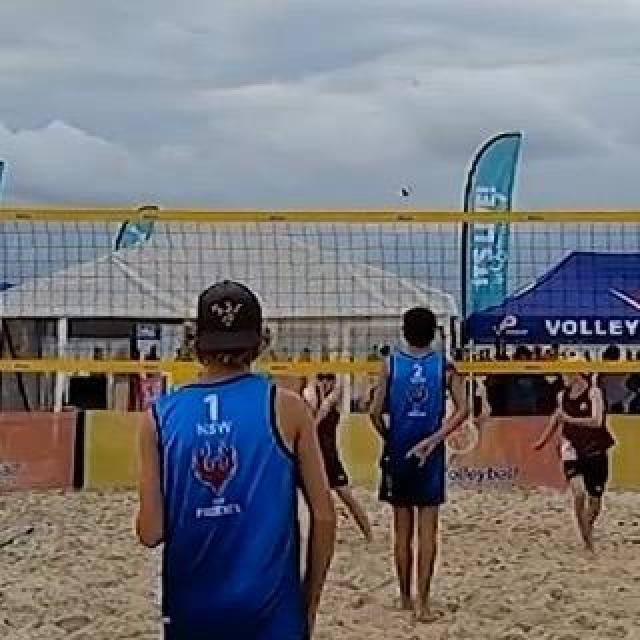volleyball: (291, 386, 317, 416)
